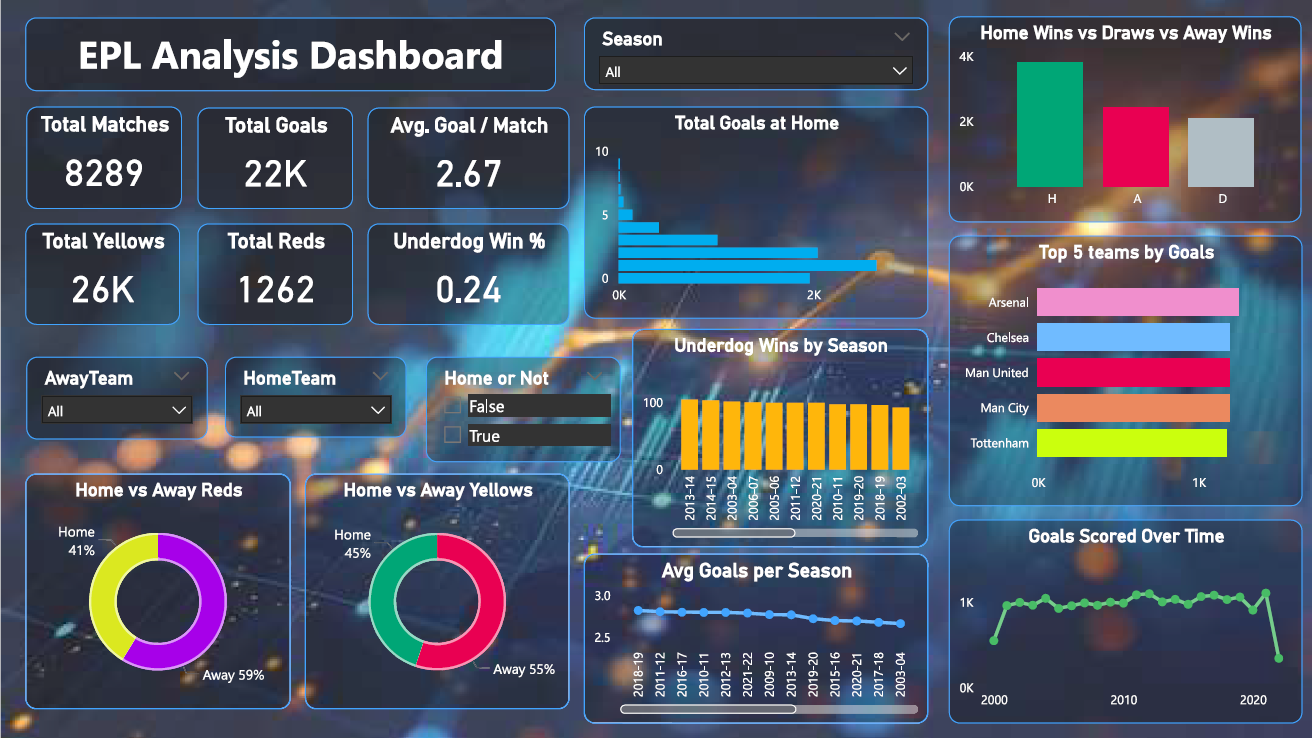

What the dashboard file says about the page in this screenshot:
{"tool":"powerbi","page":{"name":"Page 1","canvas":[1280,720],"ordinal":0},"visuals":[{"type":"card","title":"Total Matches","fields":{"Values":["CountNonNull(matches_clean.MatchID)"]},"box":[25.2,103.5,151.3,100.9],"z":0},{"type":"card","title":"Total Goals","fields":{"Values":["Sum(matches_clean.TotalGoals)"]},"box":[192.5,104.9,151.3,99.6],"z":1000},{"type":"card","title":"Avg. Goal / Match","fields":{"Values":["Avg(matches_clean.TotalGoals)"]},"box":[358.4,104.9,196.4,99.6],"z":2000},{"type":"clusteredColumnChart","title":"Home Wins vs Draws vs Away Wins","fields":{"Category":["matches_clean.FTR"],"Y":["CountNonNull(matches_clean.MatchID)"]},"box":[924.6,16.1,344.7,200.6],"z":3000},{"type":"lineChart","title":"Goals Scored Over Time","fields":{"Category":["matches_clean.Date.Variation.Date Hierarchy.Year"],"Y":["Sum(matches_clean.TotalGoals)"]},"box":[925.2,507,345.1,199.1],"z":4000},{"type":"clusteredBarChart","title":"Total Goals at Home","fields":{"Y":["CountNonNull(matches_clean.HomeTeam)"],"Category":["matches_clean.FTHG"]},"box":[569.4,103.5,335.8,207.1],"z":5000},{"type":"slicer","fields":{"Values":["matches_clean.Season"]},"box":[569.4,17.3,335.8,70.3],"z":6000},{"type":"slicer","fields":{"Values":["matches_clean.HomeTeam"]},"box":[219,347.8,176.5,79.6],"z":7000},{"type":"slicer","fields":{"Values":["matches_clean.AwayTeam"]},"box":[25.2,347.8,176.5,81],"z":8000},{"type":"clusteredBarChart","title":"Top 5 teams by Goals","fields":{"Category":["FactTeamMatch.Team"],"Y":["Sum(FactTeamMatch.GoalsFor)"]},"box":[925.2,229.6,345.1,264.1],"z":9000},{"type":"slicer","title":"Home ","fields":{"Values":["FactTeamMatch.IsHome"]},"box":[415.5,347.8,189.8,103.5],"z":10000},{"type":"card","title":"Total Yellows","fields":{"Values":["matches_clean.Total Yellows"]},"box":[23.9,217.7,151.3,99.6],"z":11000},{"type":"card","title":"Total Reds","fields":{"Values":["matches_clean.Total Reds"]},"box":[192.5,217.7,151.3,99.6],"z":12000},{"type":"donutChart","title":"Home vs Away Yellows","fields":{"Category":["DimSide.Side"],"Y":["matches_clean.Yellow Cards (by Side)"]},"box":[297.3,461.9,257.5,229.6],"z":13000},{"type":"donutChart","title":"Home vs Away Reds","fields":{"Category":["DimSide.Side"],"Y":["matches_clean.Red Cards (by Side)"]},"box":[23.9,461.9,258.8,229.6],"z":14000},{"type":"lineChart","title":"Avg Goals per Season","fields":{"Category":["matches_clean.Season"],"Y":["matches_clean.Avg Goals / Match"]},"box":[569.4,540.2,335.8,165.9],"z":15000},{"type":"textbox","box":[23.9,17.3,517.7,71.7],"z":16000},{"type":"card","title":"Underdog Win %","fields":{"Values":["matches_clean.Underdog Win %"]},"box":[358.4,217.7,196.4,99.6],"z":17000},{"type":"clusteredColumnChart","fields":{"Category":["matches_clean.Season"],"Y":["matches_clean.Underdog Wins"]},"box":[615.9,321.2,289.4,212.4],"z":18000}]}

Visuals, with their boxes in screenshot pixels (x1, y1, x2, y2), scaled from the page's 1280x720 canvas onto the 1312x738 screenshot:
"Total Matches" card: select_region(26, 106, 181, 210)
"Total Goals" card: select_region(197, 108, 352, 210)
"Avg. Goal / Match" card: select_region(367, 108, 569, 210)
"Home Wins vs Draws vs Away Wins" clusteredColumnChart: select_region(948, 17, 1301, 222)
"Goals Scored Over Time" lineChart: select_region(948, 520, 1302, 724)
"Total Goals at Home" clusteredBarChart: select_region(584, 106, 928, 318)
slicer - matches_clean.Season: select_region(584, 18, 928, 90)
slicer - matches_clean.HomeTeam: select_region(224, 356, 405, 438)
slicer - matches_clean.AwayTeam: select_region(26, 356, 207, 440)
"Top 5 teams by Goals" clusteredBarChart: select_region(948, 235, 1302, 506)
"Home " slicer: select_region(426, 356, 620, 463)
"Total Yellows" card: select_region(24, 223, 180, 325)
"Total Reds" card: select_region(197, 223, 352, 325)
"Home vs Away Yellows" donutChart: select_region(305, 473, 569, 709)
"Home vs Away Reds" donutChart: select_region(24, 473, 290, 709)
"Avg Goals per Season" lineChart: select_region(584, 554, 928, 724)
textbox: select_region(24, 18, 555, 91)
"Underdog Win %" card: select_region(367, 223, 569, 325)
clusteredColumnChart - matches_clean.Season x matches_clean.Underdog Wins: select_region(631, 329, 928, 547)
